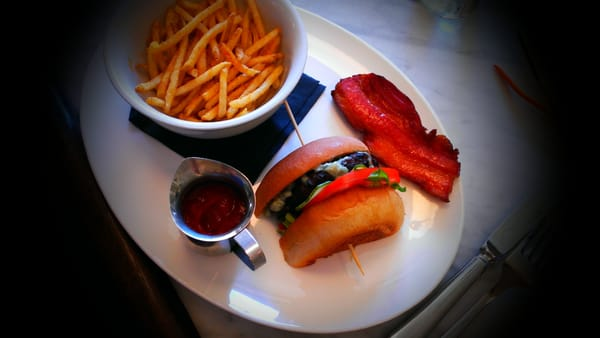sushi: (103, 0, 310, 138), (169, 156, 256, 246)
